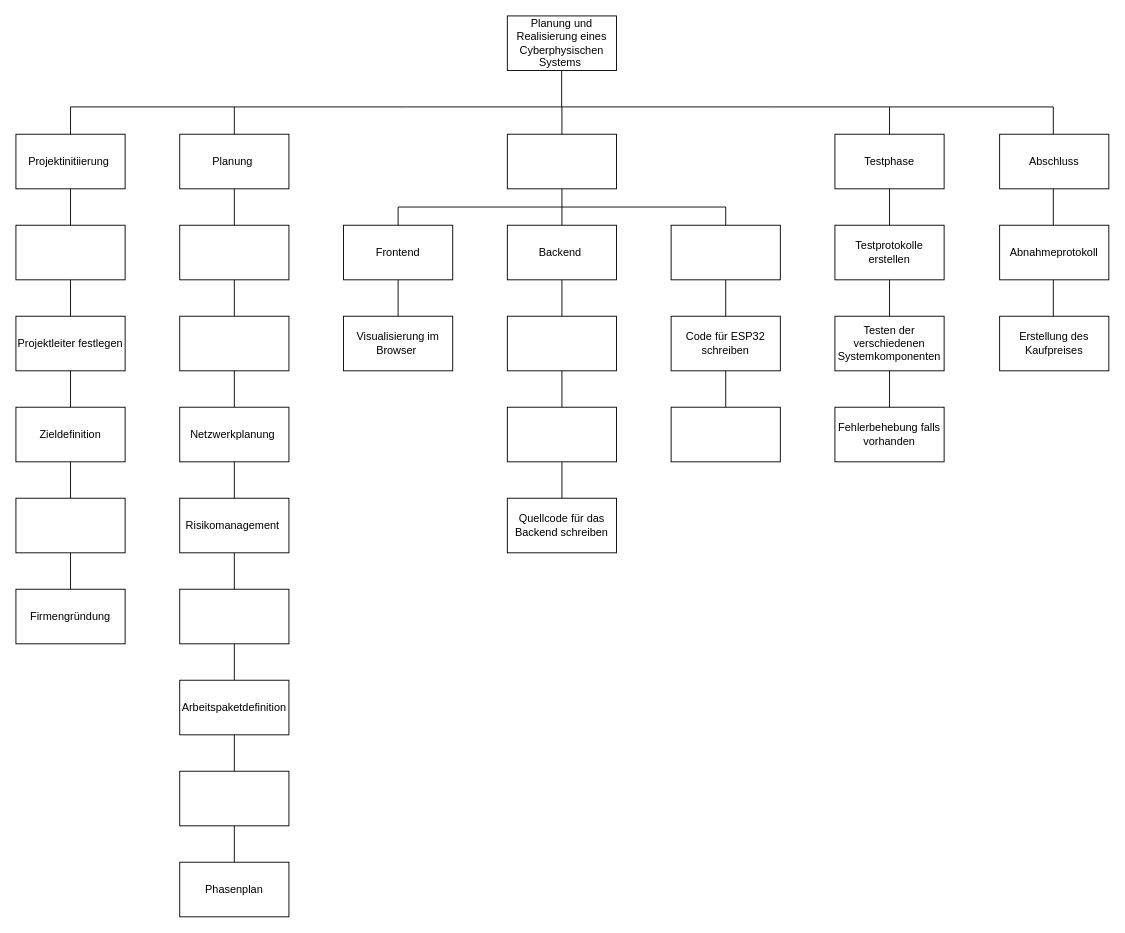
Some shapes in this 1125 by 933 pixel diagram are drawn without their labels. Each missing label, with the box of its shape:
Datenbankanbindung: (506, 406, 617, 462)
Durchführung: (506, 133, 617, 189)
GANTT-Diagramm erstellen: (179, 224, 289, 280)
Kostenkalkulation: (179, 588, 289, 644)
Lasten-/Pflichtenheft: (179, 770, 289, 826)
Materialplanung: (179, 315, 289, 371)
Mikrocontroller: (670, 224, 780, 280)
MQTT-Verarbeitung: (506, 315, 617, 371)
Netzwerk- Kommunikation ermöglichen: (670, 406, 780, 462)
Projektantrag abgeben: (15, 497, 125, 553)
Projektteam zusammenstellen: (15, 224, 125, 280)
